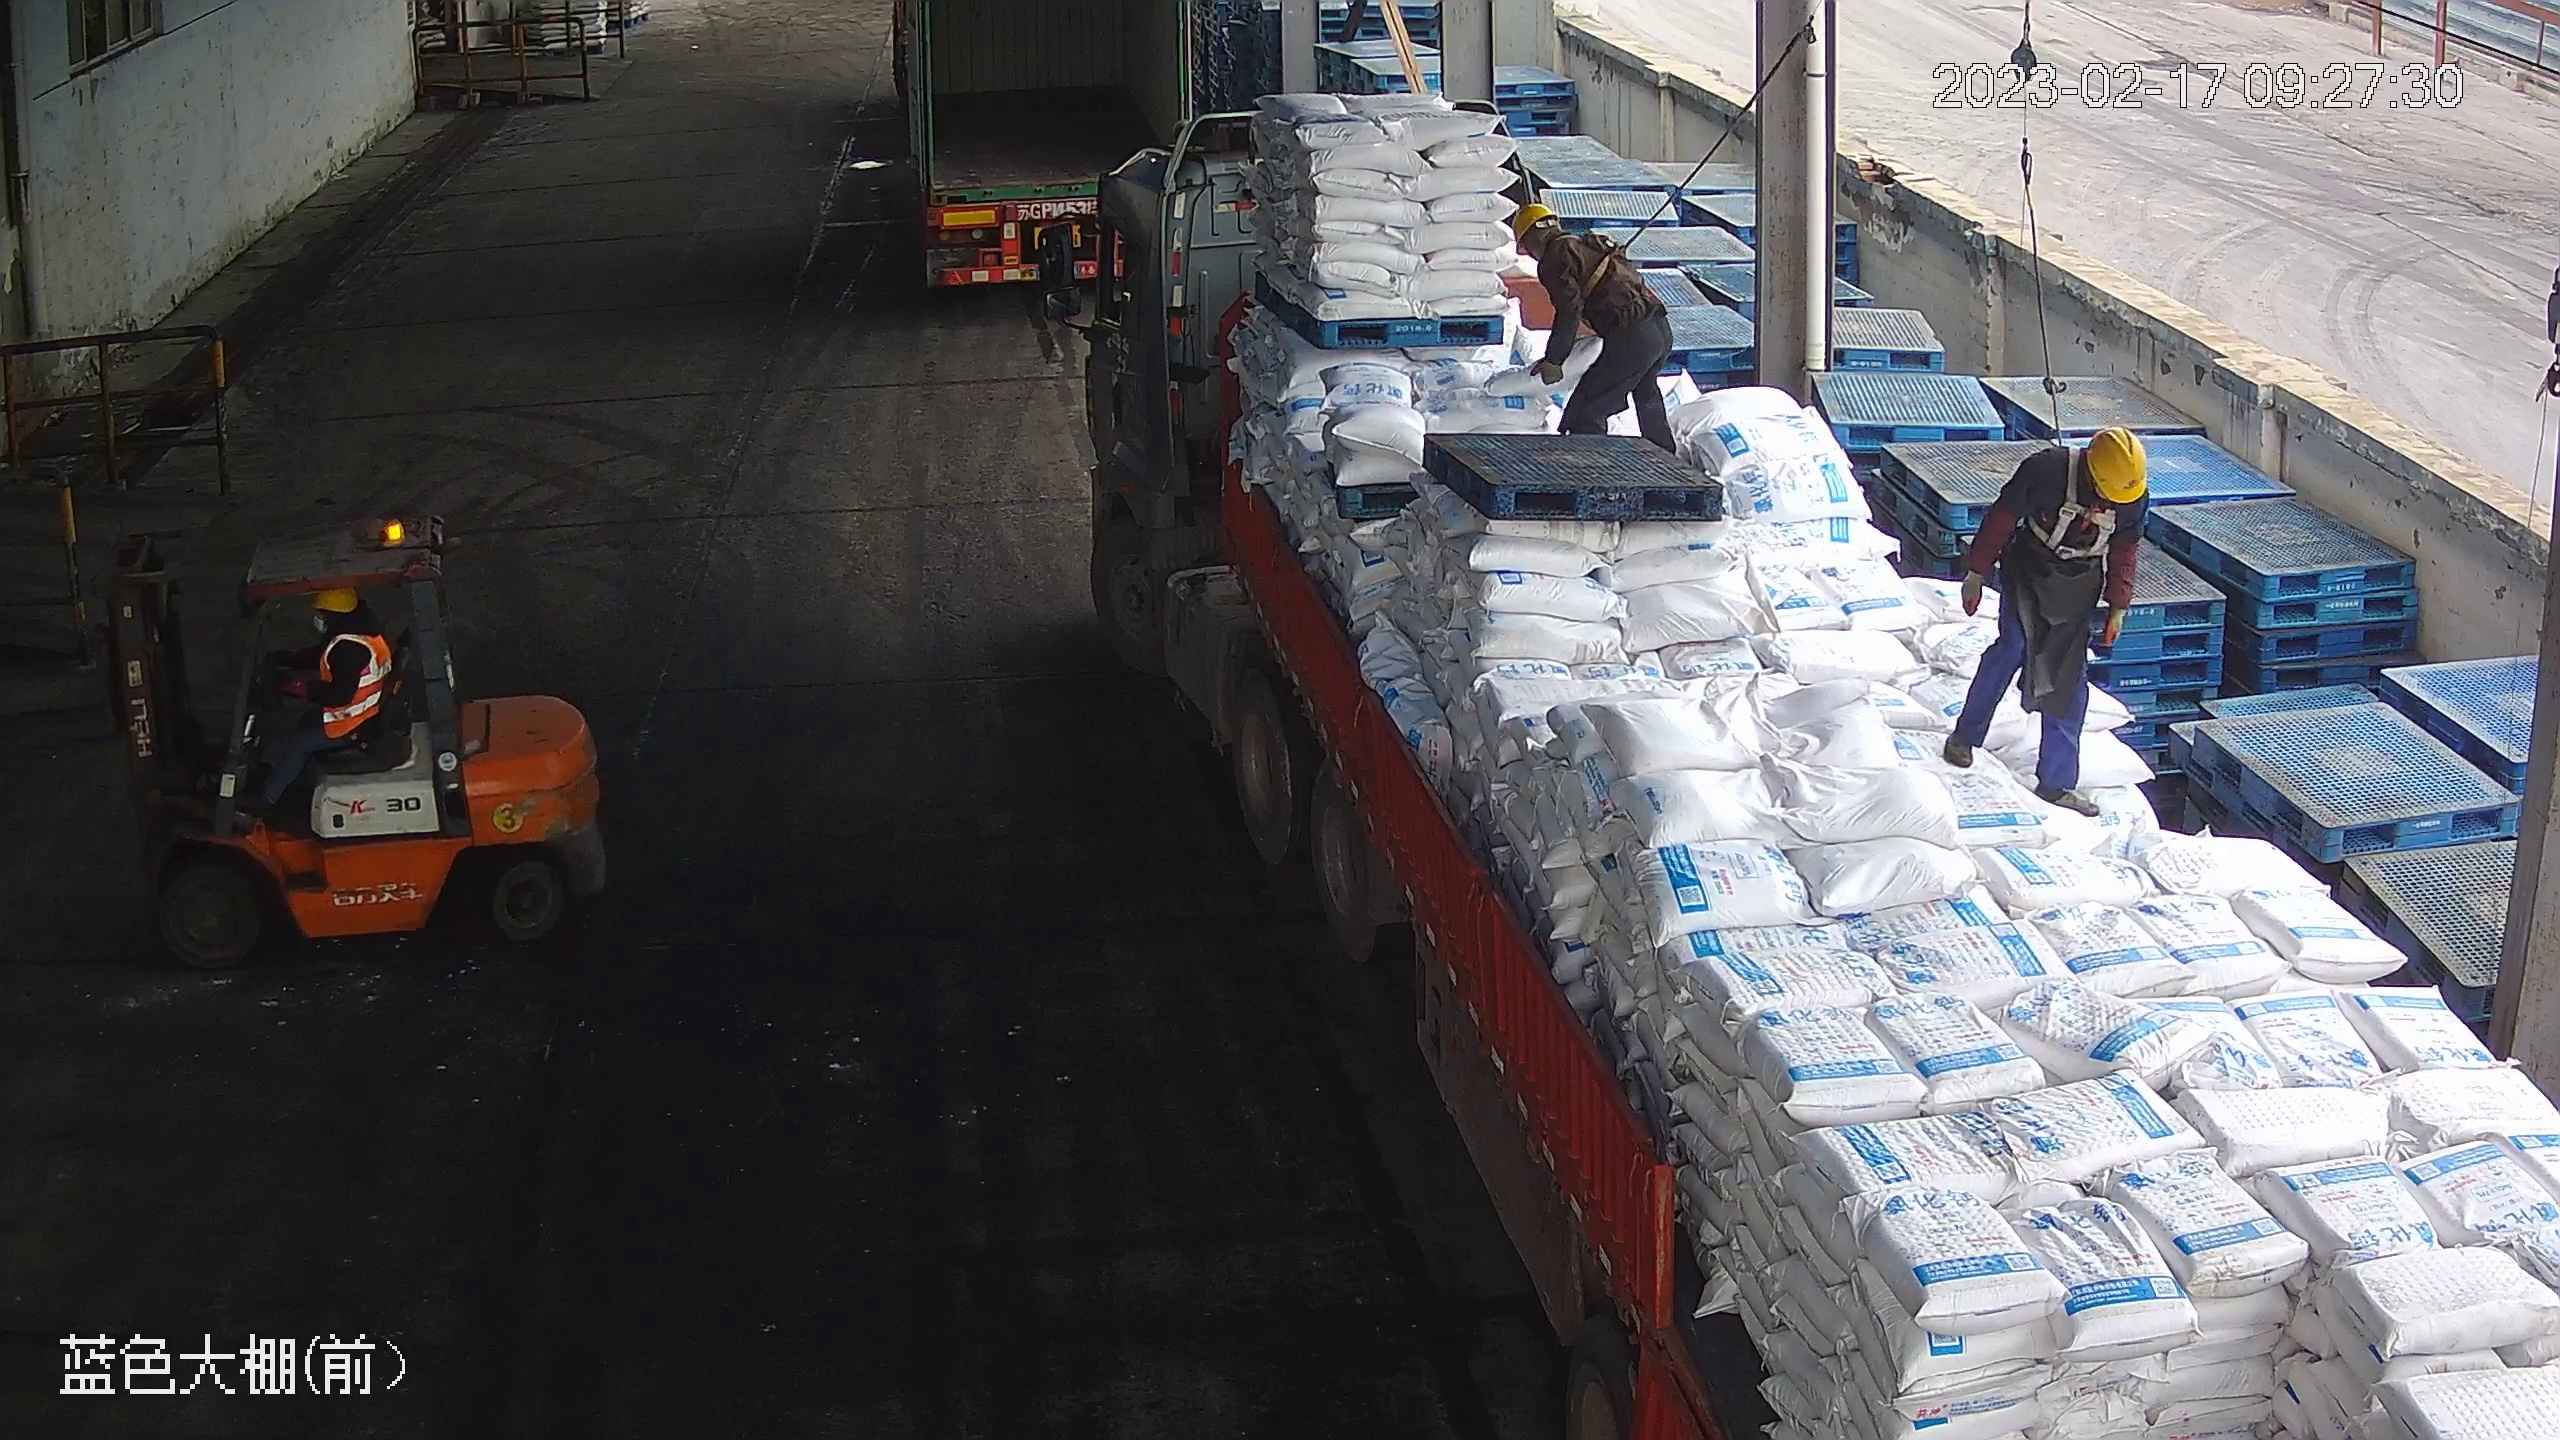belt: (2029, 452, 2119, 558), (1562, 226, 1634, 297)
head: (2011, 420, 2151, 533), (1508, 200, 1607, 280), (305, 581, 387, 674)
helmet: (2082, 422, 2150, 505), (1508, 199, 1557, 245), (313, 583, 357, 614)
people: (1934, 413, 2152, 812), (1509, 203, 1691, 452), (240, 583, 395, 810)
truck: (1043, 87, 2549, 1438), (886, 0, 1203, 305)
